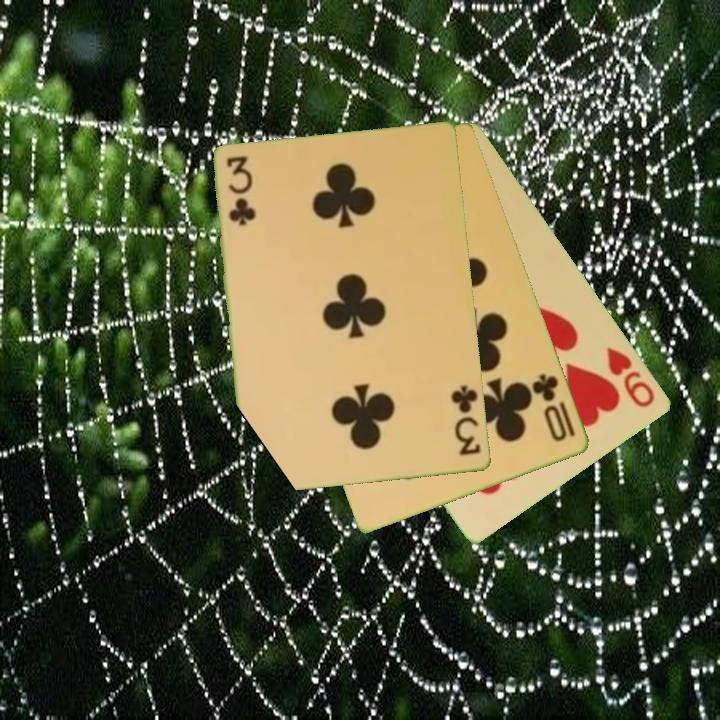10c: (528, 370, 579, 445)
3c: (448, 382, 484, 459), (223, 153, 255, 229)
9h: (603, 343, 659, 411)
